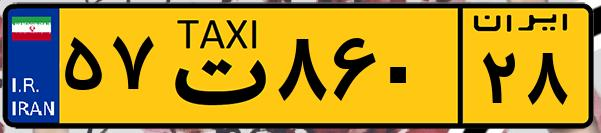0: (385, 28, 445, 110)
2: (475, 38, 525, 113)
5: (57, 26, 110, 100)
6: (330, 28, 385, 110)
7: (110, 28, 158, 98)
8: (270, 28, 330, 110), (525, 38, 570, 115)
ت: (158, 12, 270, 120)
